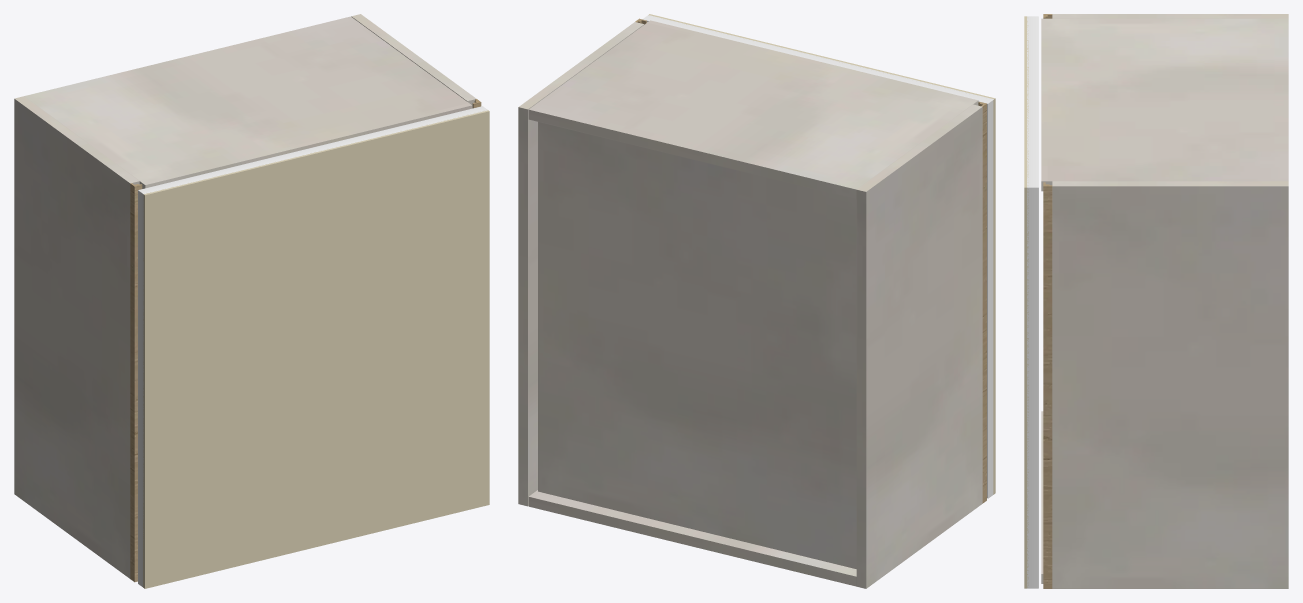
File: WALL LOFT CABINET 1 SHELF (H600xW550xD336) WLC1S1HS_LH.glb
3 views of the same model, side by side, from view 1: azimuth 30°, elevation 25°; view 2: azimuth 150°, elevation 25°; view 3: azimuth 270°, elevation 25° (orthographic).
Size of what is drawn, in the model's own units: 0.55 by 0.6 by 0.3569.
6 materials, 2 textured.
